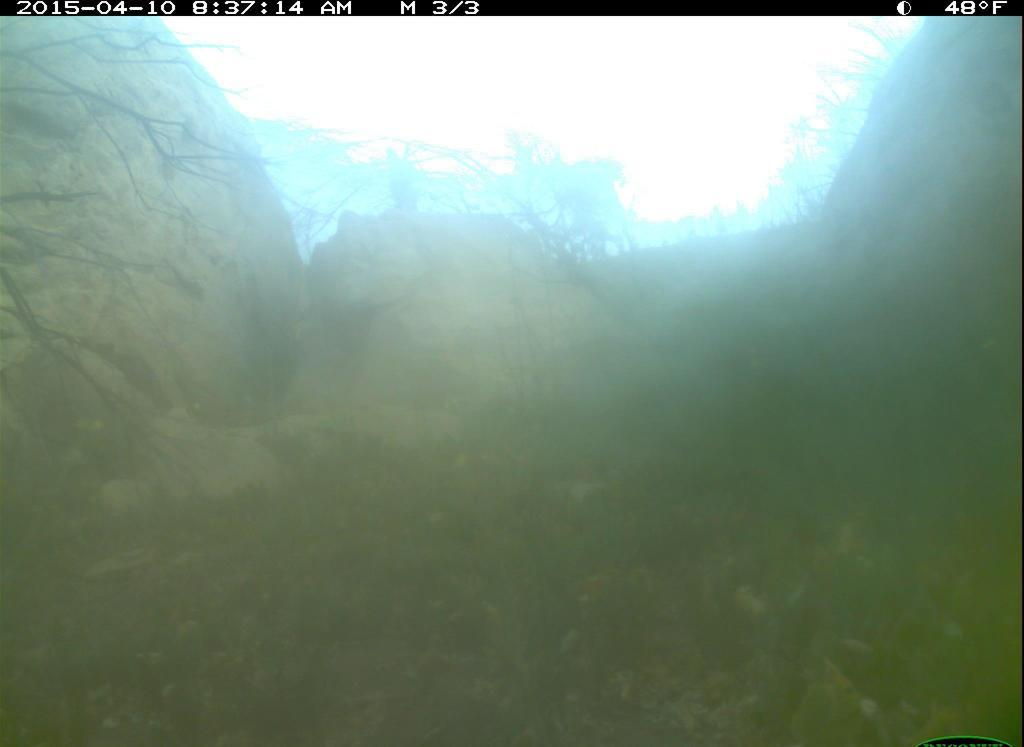rabbit: (726, 585, 863, 747)
